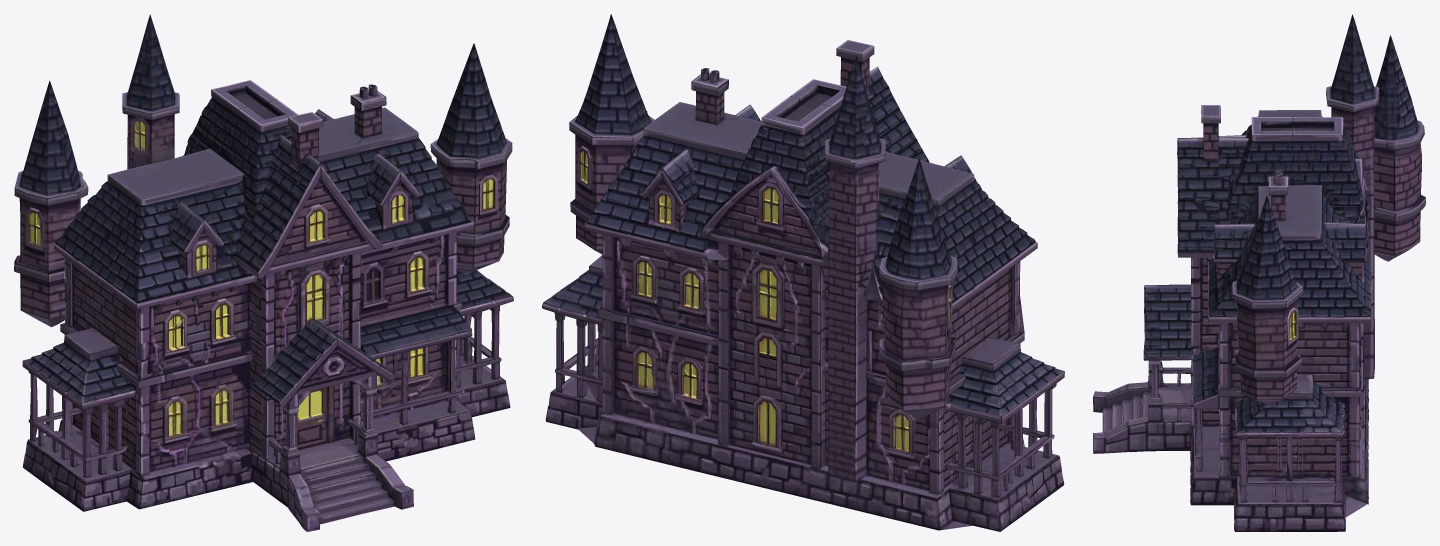
File: polson_towers.glb
3 renders of one model, left to right at view 1: azimuth 30°, elevation 25°; view 2: azimuth 150°, elevation 25°; view 3: azimuth 270°, elevation 25°, orthographic. The views are drawn at different scales.
Bounding box in the file's own units: 28 × 25.54 × 20.
Materials: 1 (1 with a texture image).
